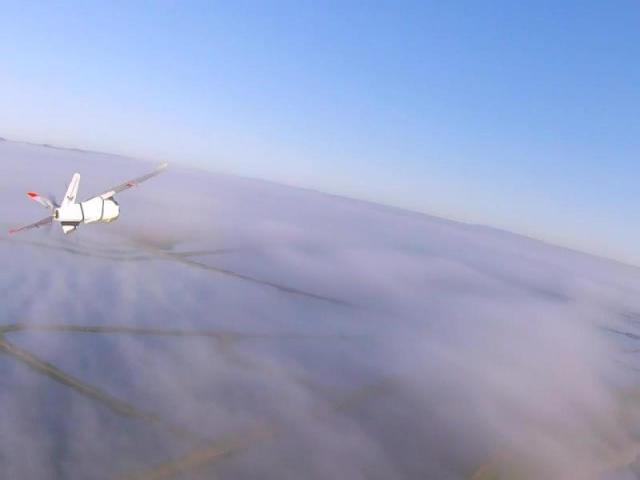hedef: (1, 158, 176, 252)
